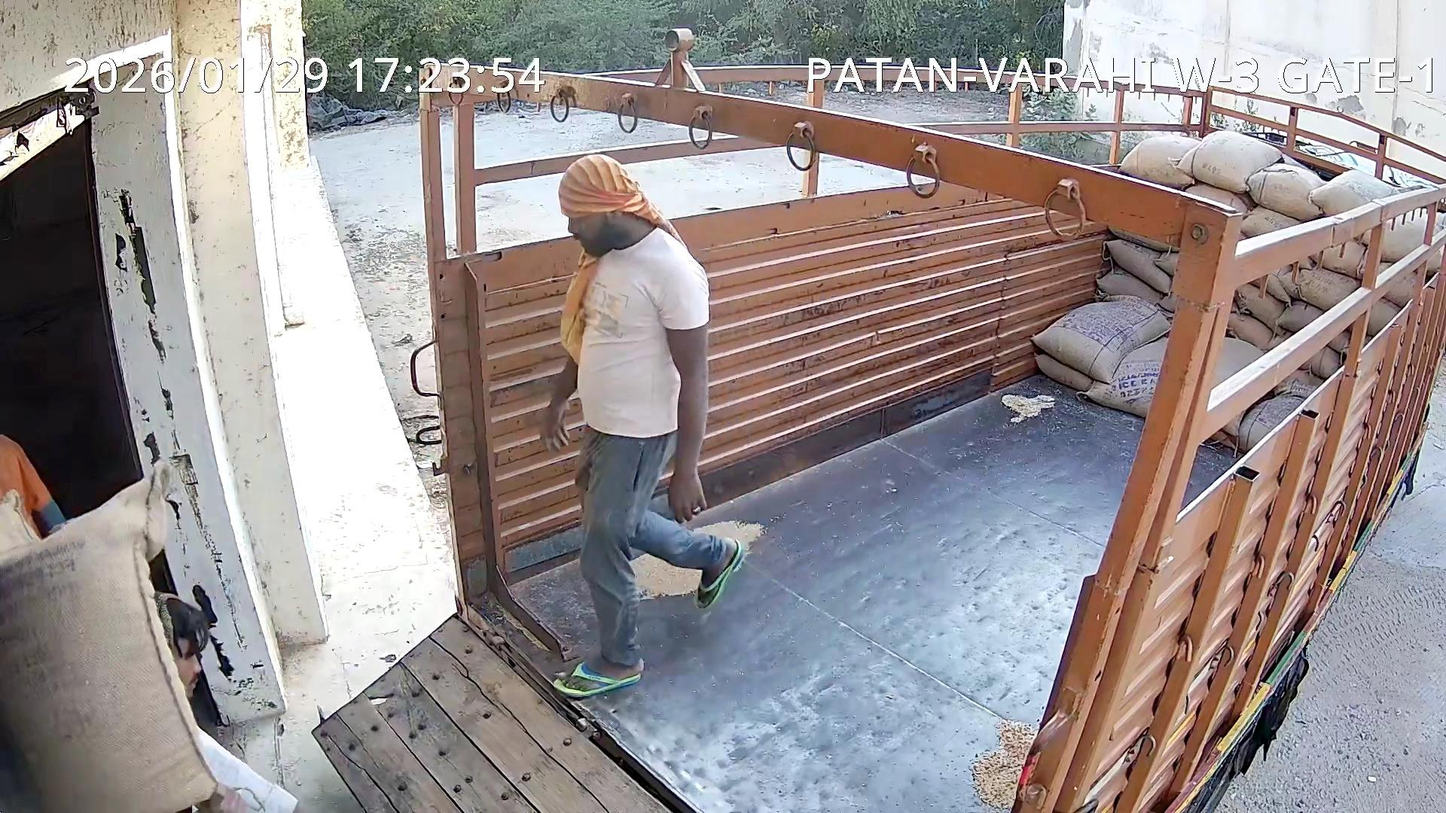Sack: (0, 467, 215, 812)
